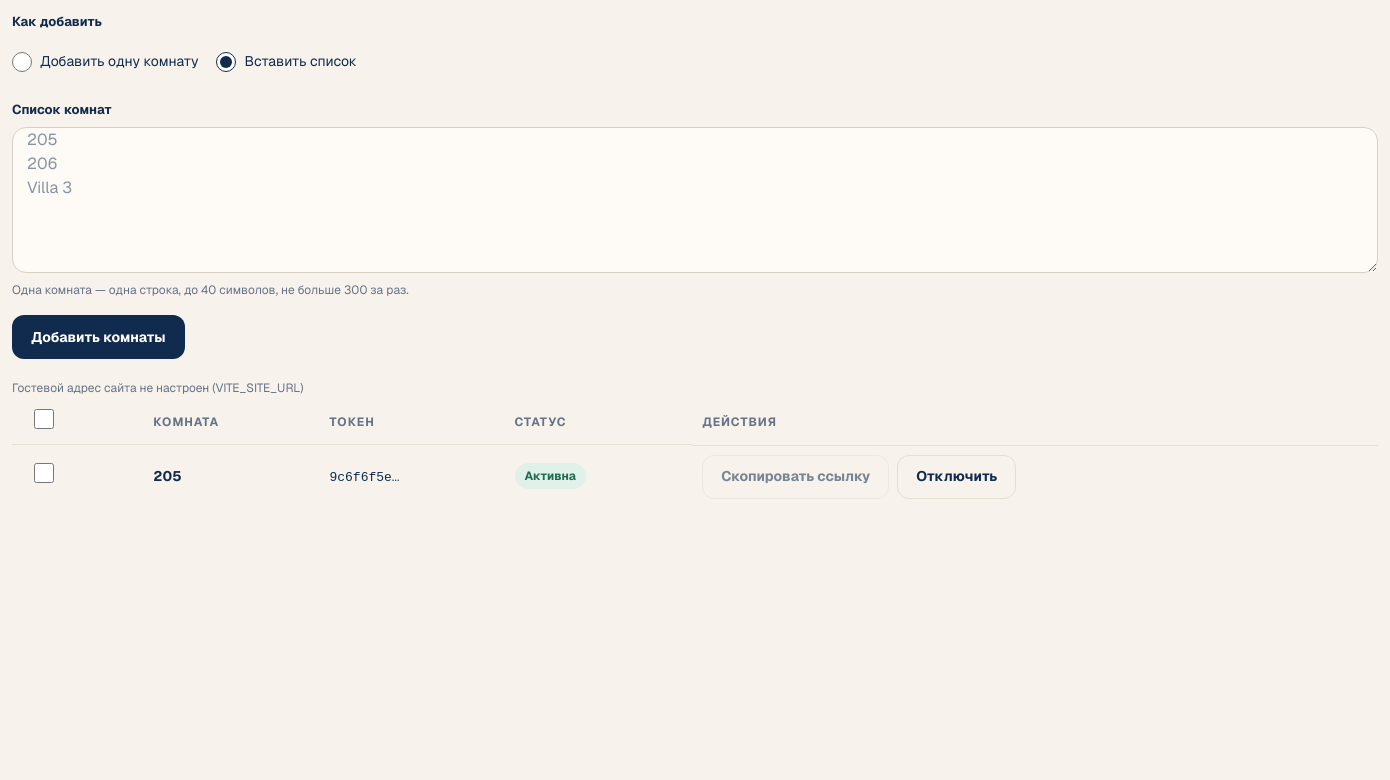
Test: RoomEditor › can disable a room after inline confirmation
Click the button with aria-label "Отключить комнату 205" at (957, 476), box [897,454,1016,498]
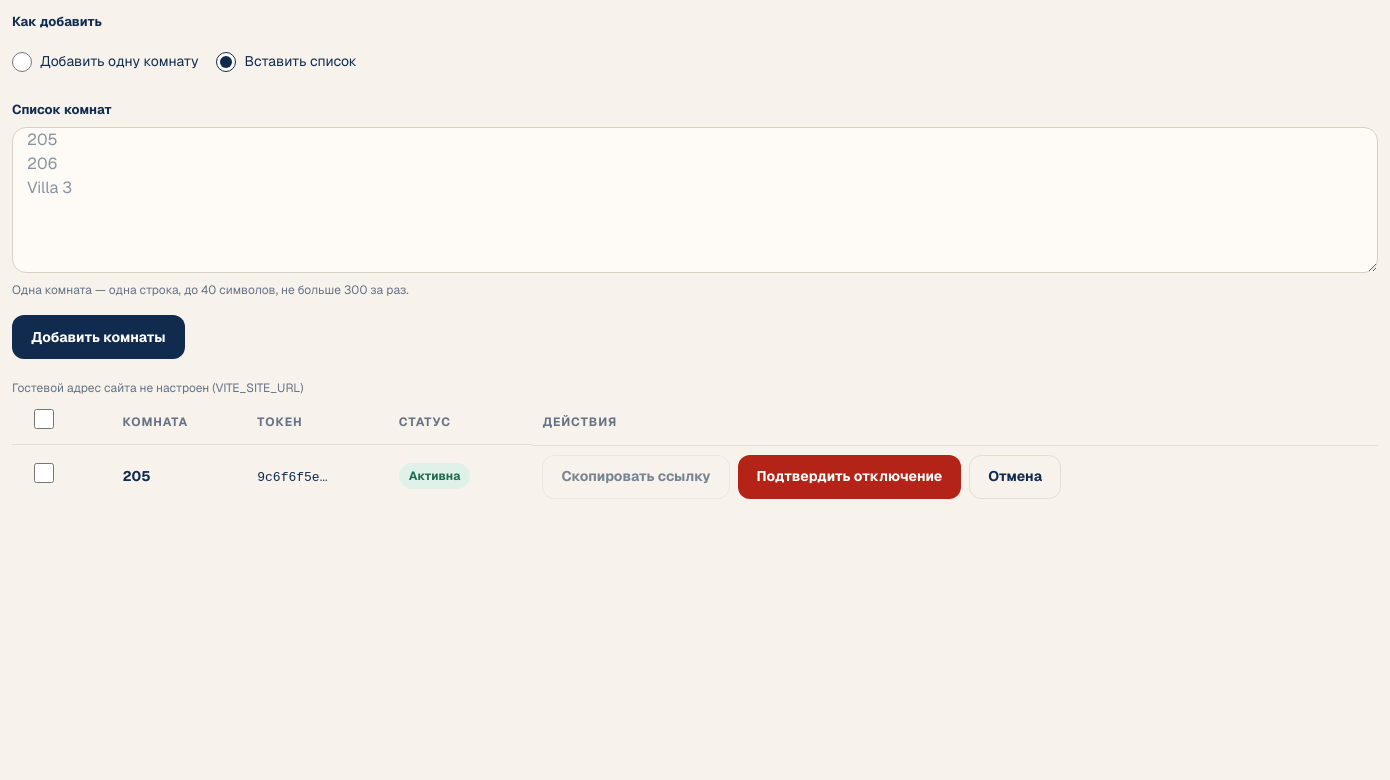
Click the button with aria-label "Подтвердить отключение 205" at (849, 476), box [738,454,961,498]
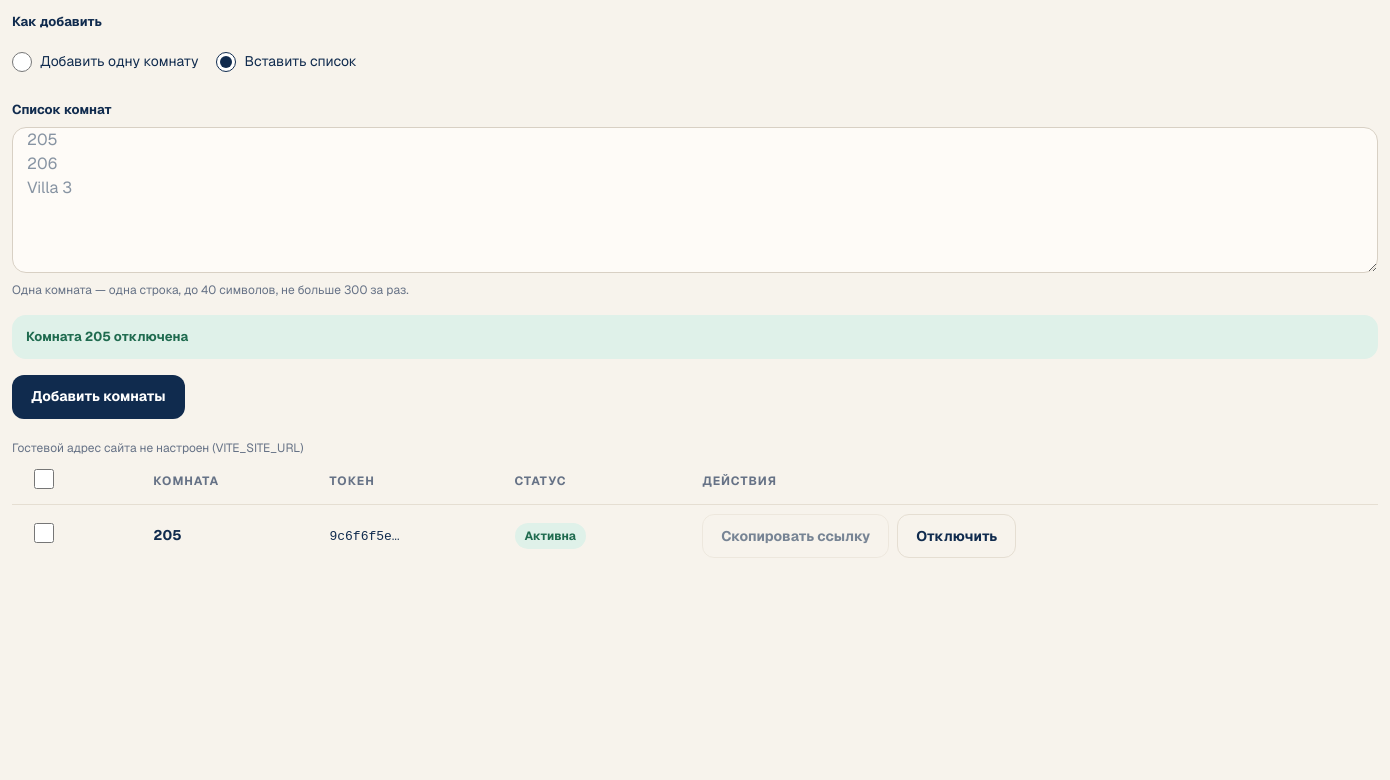
Result: the text "Комната 205 отключена" is shown at [12,315,1378,358]
